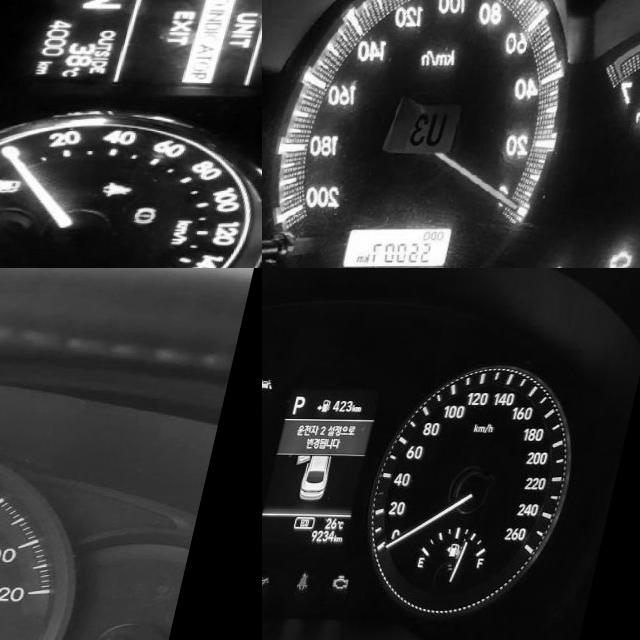LaneCenteringOff: (268, 378, 288, 390)
Seat Belt: (124, 182, 157, 197)
